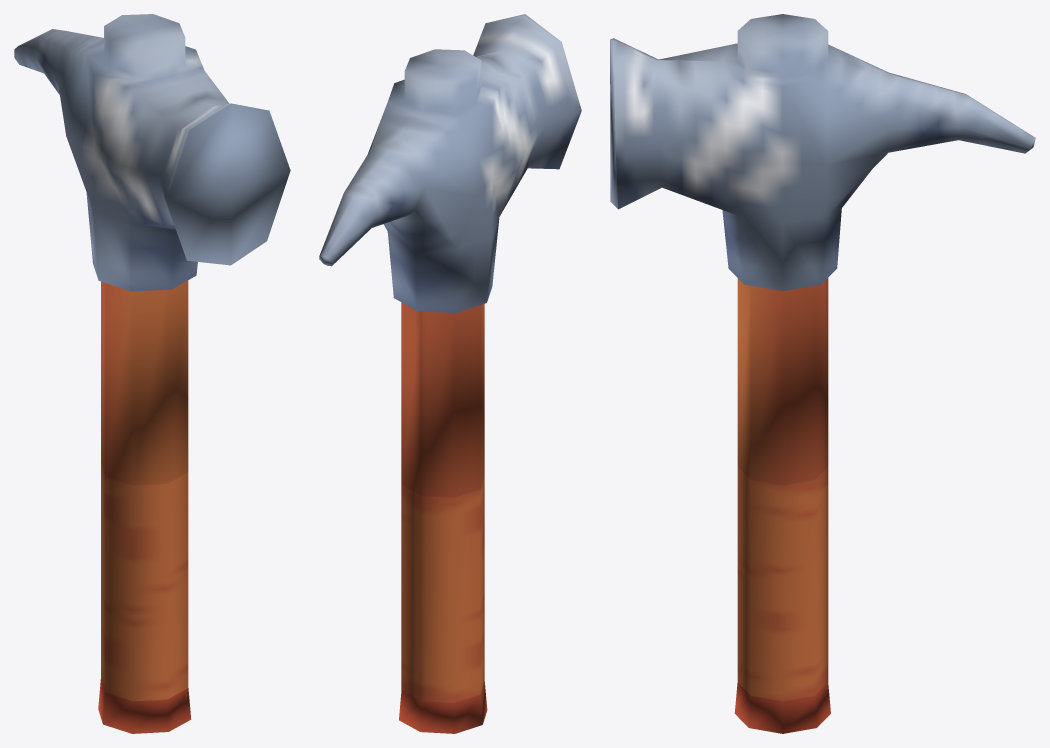
The model's file is martelo.fbx.
The picture shows the model from 3 angles, left to right: view 1: azimuth 30°, elevation 25°; view 2: azimuth 150°, elevation 25°; view 3: azimuth 270°, elevation 25°; orthographic projection. The views are drawn at different scales.
Visible parts, largest first — view 1: Marreta.001; view 2: Marreta.001; view 3: Marreta.001.
Part boxes in pixels (x1,y1,x2,y2): Marreta.001: [14, 14, 290, 733]; Marreta.001: [319, 14, 581, 733]; Marreta.001: [610, 14, 1035, 733].
Bounding box in the file's own units: 9.62 × 50.24 × 28.4.
